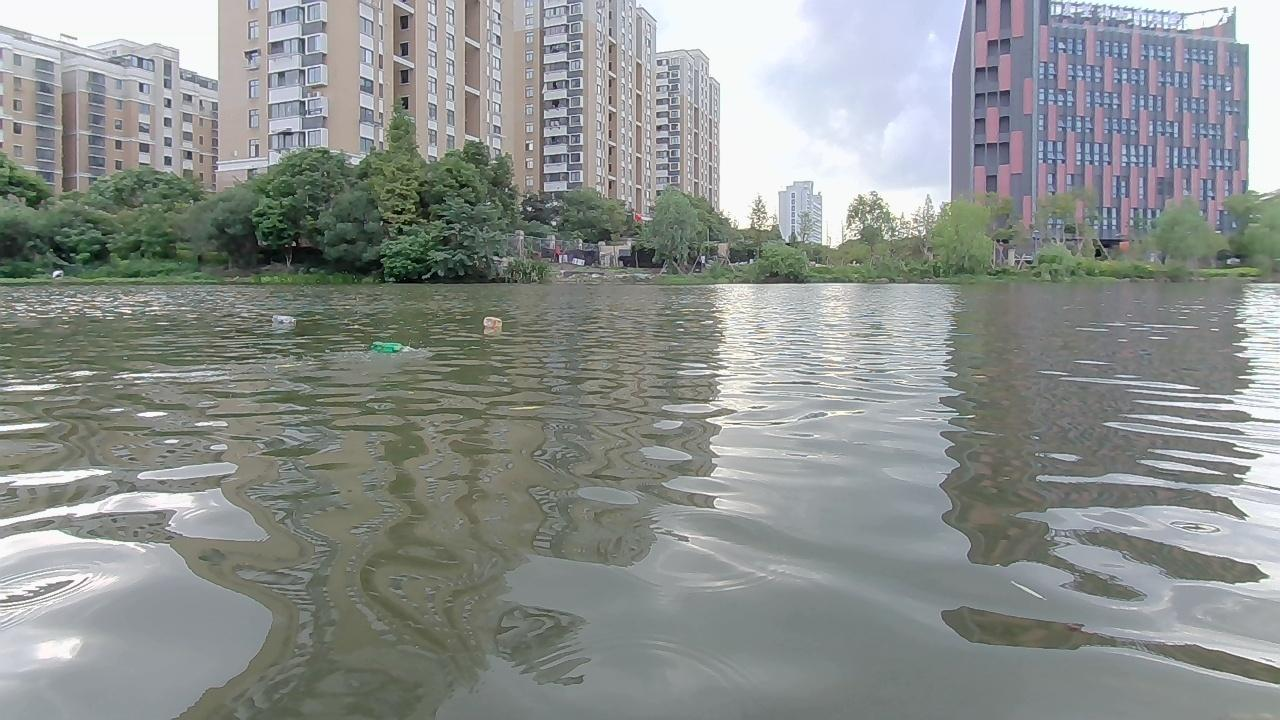bottle: (367, 338, 417, 355), (480, 314, 505, 330), (273, 313, 296, 327)
